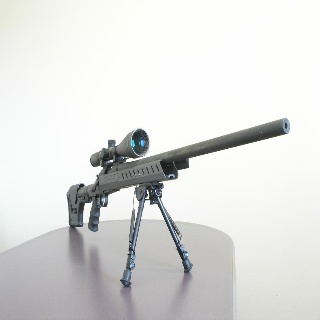rifle: (67, 117, 293, 282)
